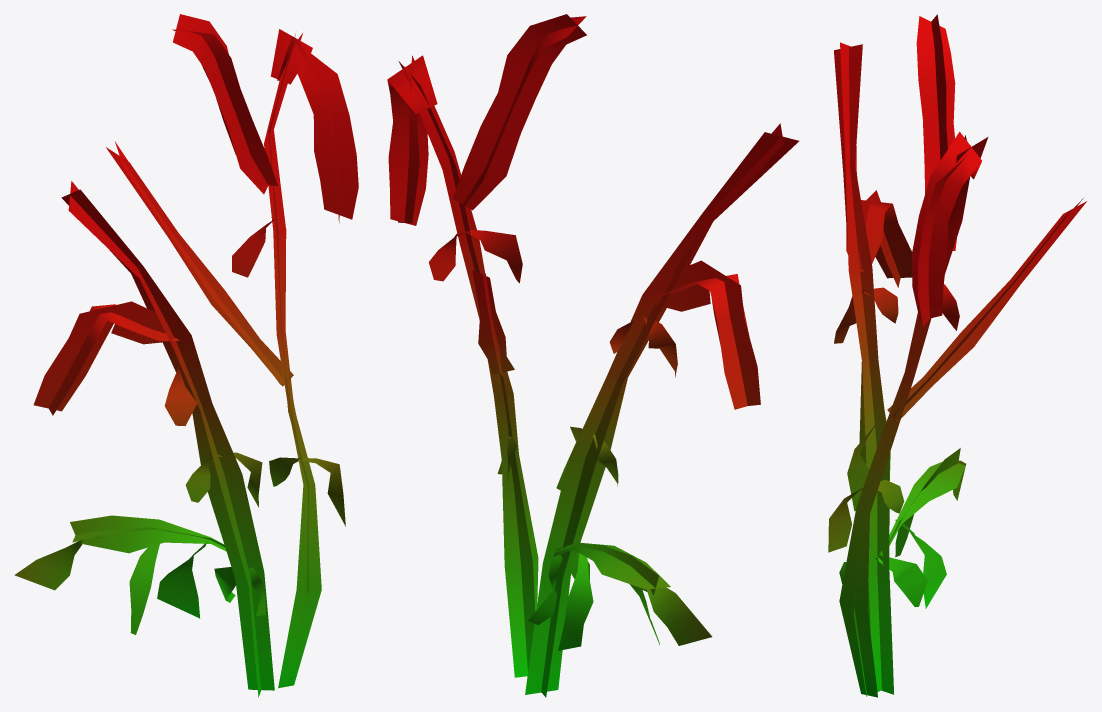
The model's file is Var4_LOD1.fbx.
3 views of the same model, side by side, from view 1: azimuth 30°, elevation 25°; view 2: azimuth 150°, elevation 25°; view 3: azimuth 270°, elevation 25° (orthographic). The views are drawn at different scales.
Parts seen in each view (by area): view 1: _8514_Var4_LOD1; view 2: _8514_Var4_LOD1; view 3: _8514_Var4_LOD1.
Boxes of the visible parts, x1,y1,x2,y2 form: _8514_Var4_LOD1: (14,14,358,697); _8514_Var4_LOD1: (387,14,798,697); _8514_Var4_LOD1: (828,14,1086,697).
Size of the model in its own units: 28.86 by 55.33 by 19.95.
